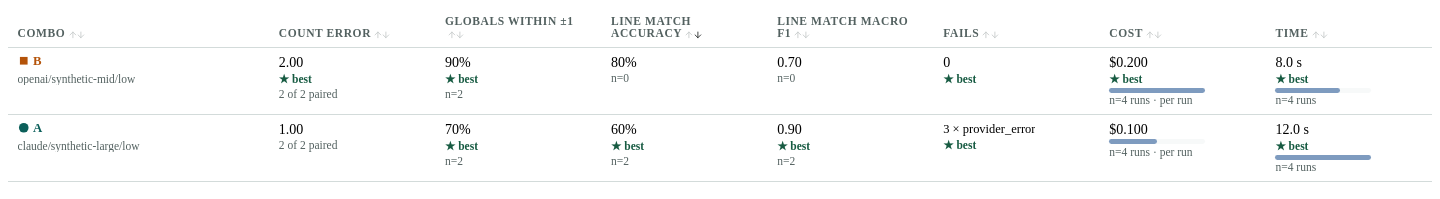
Test: sorts every column ascending then descending from the saved values
This screenshot has width=1440, height=199.
Earlier steps of the test are not shown.
Later steps or results of the test are not shown.
Expected: the column heading "Line match accuracy" has attribute aria-sort="descending", [602, 8, 768, 47]
Click the column heading "Line match macro F1" at (851, 28), box [768, 8, 934, 47]
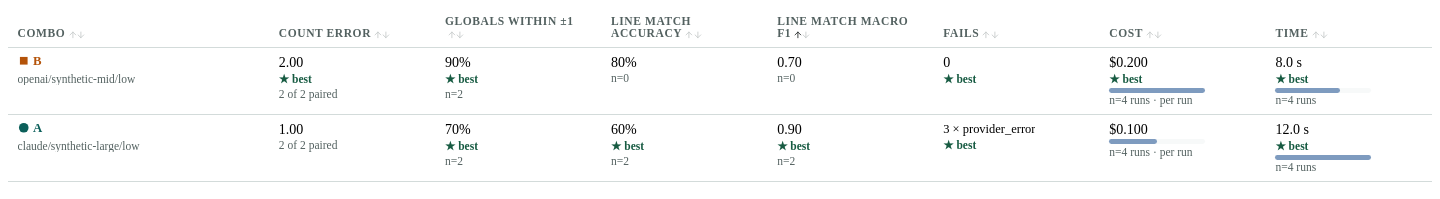
Click the column heading "Line match macro F1" at (851, 28), box [768, 8, 934, 47]
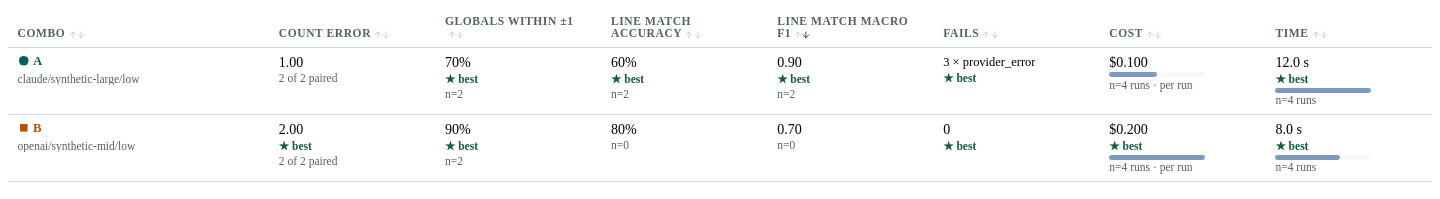
Expected: the column heading "Line match macro F1" has attribute aria-sort="descending", [768, 8, 934, 47]
Click the column heading "Fails" at (1017, 28), box [934, 8, 1100, 47]
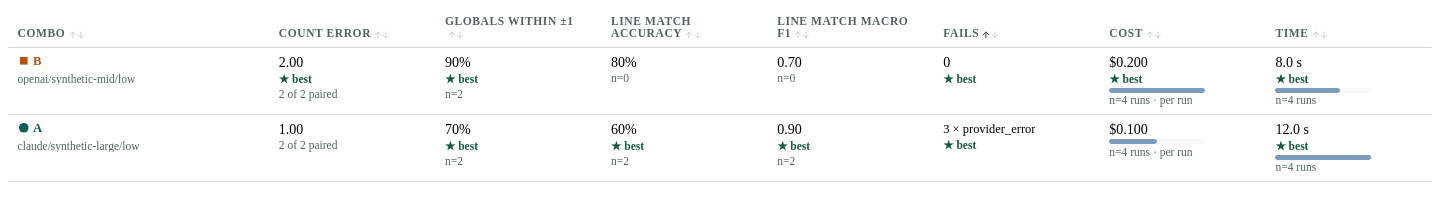
Click the column heading "Fails" at (1017, 28), box [934, 8, 1100, 47]
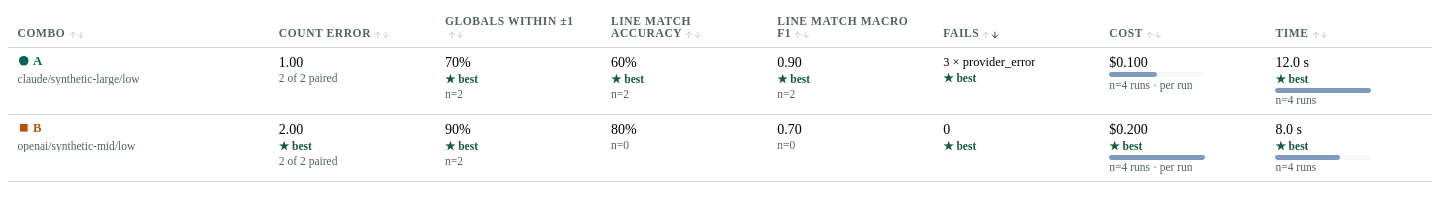
Expected: the column heading "Fails" has attribute aria-sort="descending", [934, 8, 1100, 47]
Click the column heading "Cost" at (1183, 28), box [1100, 8, 1266, 47]
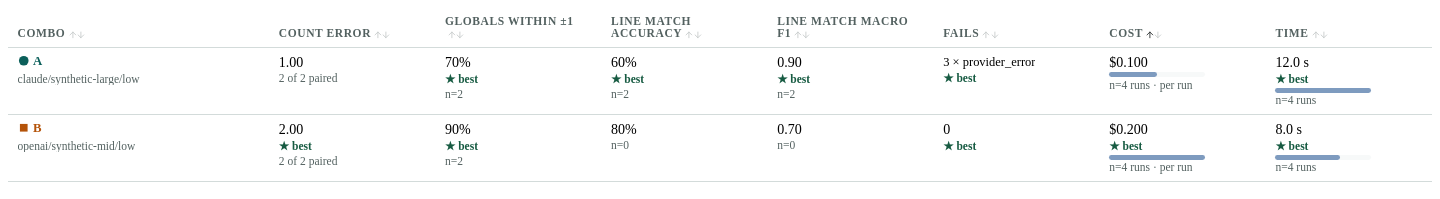
Click the column heading "Cost" at (1183, 28), box [1100, 8, 1266, 47]
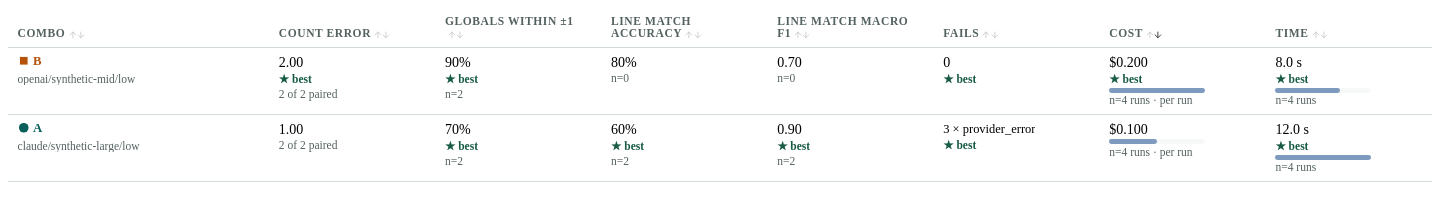
Expected: the column heading "Cost" has attribute aria-sort="descending", [1100, 8, 1266, 47]
